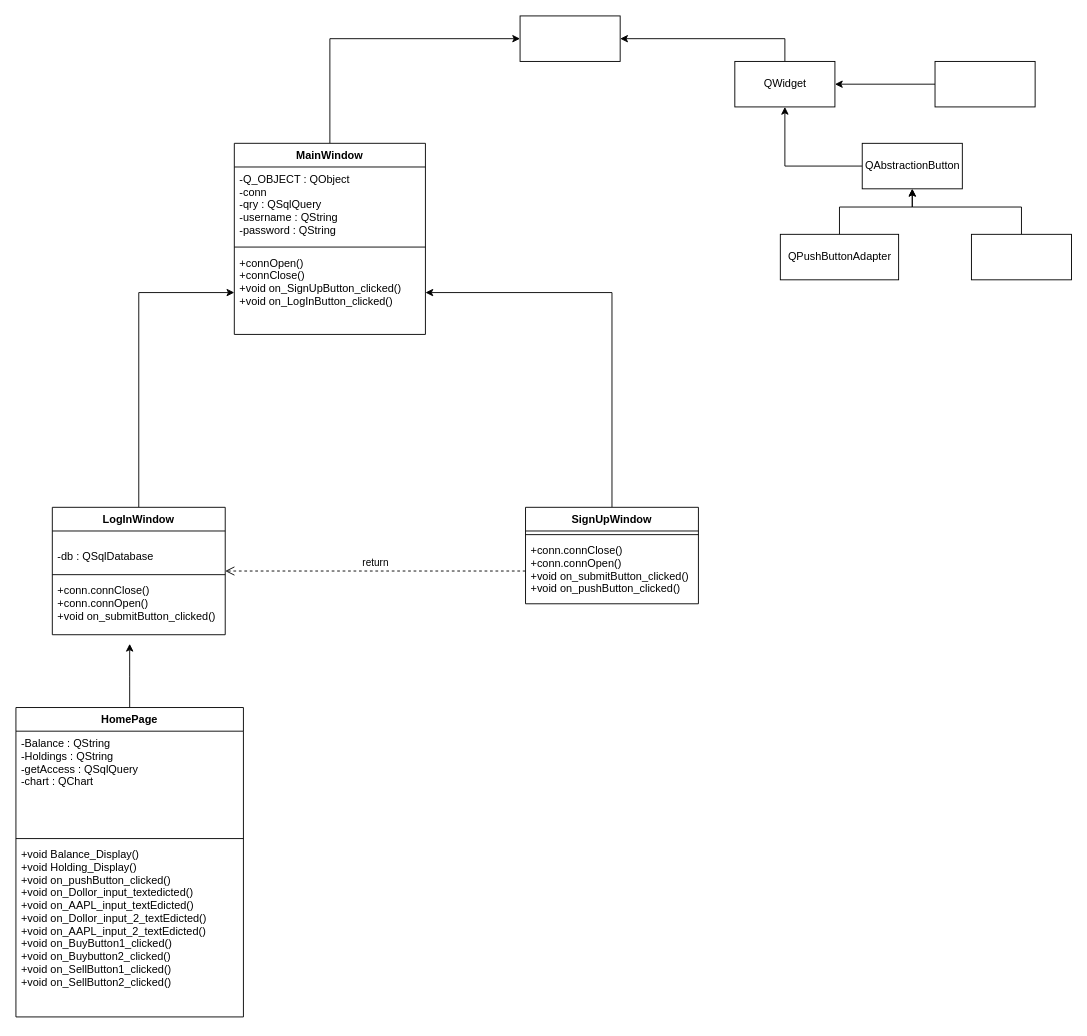
This 1087x1036 diagram has some shape labels left out. Here are the shapes that lost their labels. From the top down, the box of each, then its label:
(519, 15, 620, 61): QObject
(934, 61, 1035, 107): QChart
(971, 233, 1072, 280): QCheckBoxAdapter
